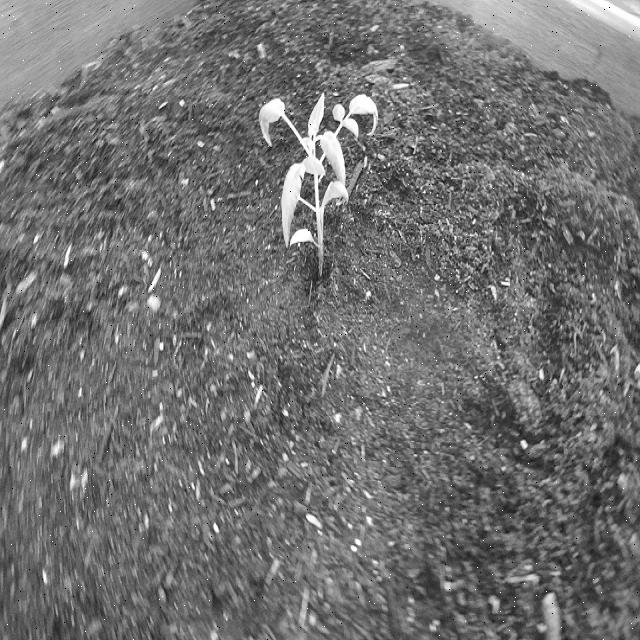Healthy: (256, 88, 381, 291)
